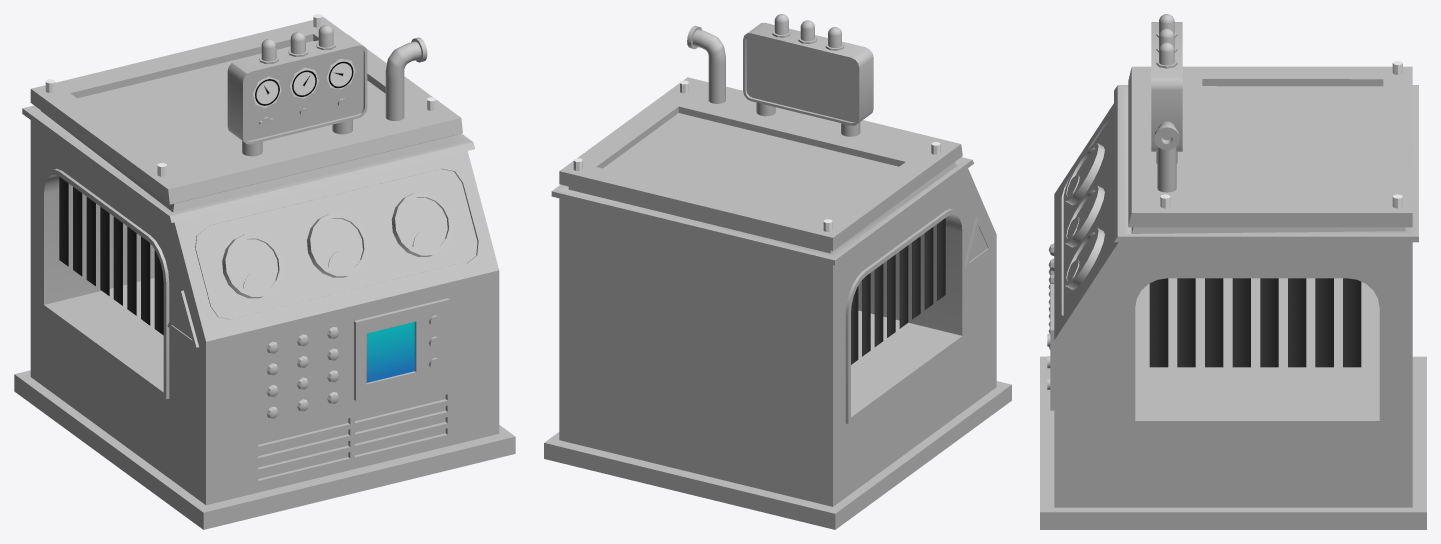
The model's file is Machn_v3_2.fbx.
The picture shows the model from 3 angles, left to right: view 1: azimuth 30°, elevation 25°; view 2: azimuth 150°, elevation 25°; view 3: azimuth 270°, elevation 25°; orthographic projection. The views are drawn at different scales.
Visible parts, largest first — view 1: Machn_v3_2, Plane_1.009; view 2: Machn_v3_2, Plane_1.009; view 3: Machn_v3_2, Plane_2.009.
Boxes of the visible parts, x1=… form: Machn_v3_2: x1=14, y1=14, x2=515, y2=529; Plane_1.009: x1=59, y1=177, x2=163, y2=335; Machn_v3_2: x1=544, y1=14, x2=1011, y2=529; Plane_1.009: x1=851, y1=218, x2=945, y2=364; Machn_v3_2: x1=1040, y1=14, x2=1426, y2=529; Plane_2.009: x1=1149, y1=278, x2=1361, y2=367.
Size of the model in its own units: 263 by 333 by 276.
